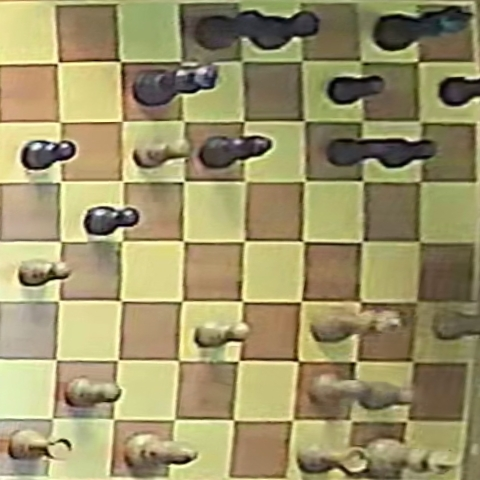black-bishop: (200, 135, 270, 168)
black-king: (374, 6, 473, 52)
black-pawn: (372, 137, 439, 169), (328, 137, 394, 168), (327, 74, 385, 105), (22, 139, 75, 171), (85, 206, 139, 236), (440, 75, 480, 106)
black-queen: (134, 64, 218, 106)
black-rook: (193, 9, 265, 51), (249, 10, 320, 50)
white-bishop: (125, 431, 197, 469)
white-king: (363, 439, 458, 478)
white-pawn: (134, 138, 192, 169), (67, 377, 121, 407), (311, 373, 366, 402), (358, 382, 414, 409), (20, 259, 72, 287), (195, 321, 250, 347), (435, 309, 480, 339)
white-queen: (312, 307, 401, 340)
white-rook: (295, 443, 372, 476), (7, 429, 75, 462)
